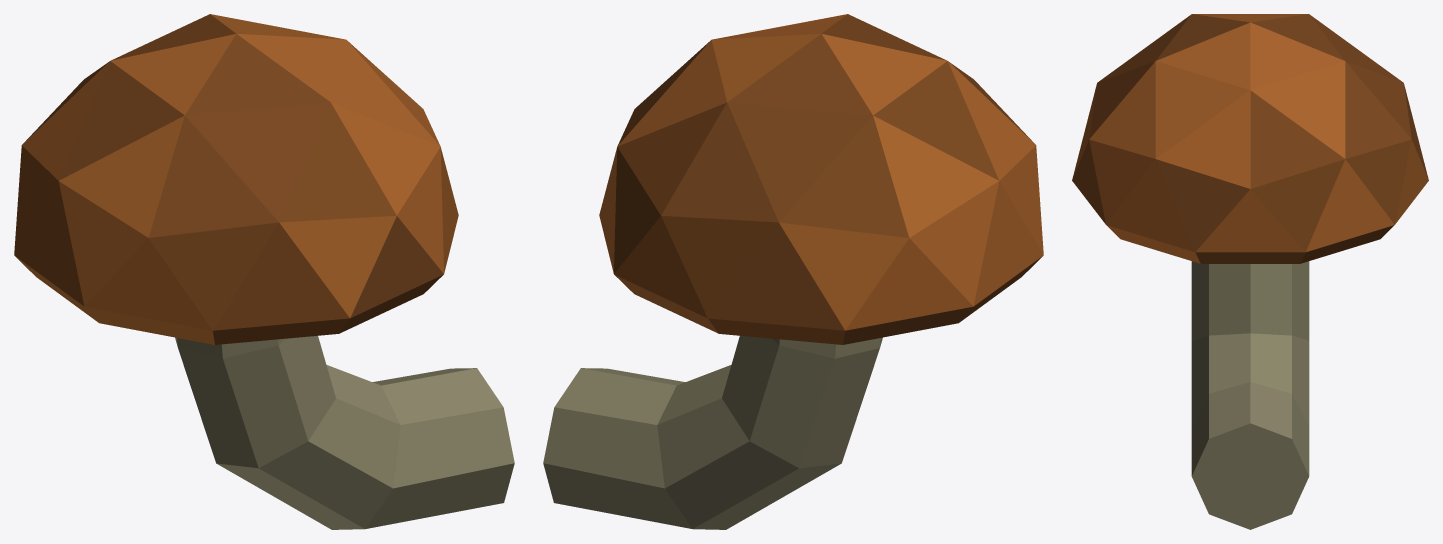
File: Mushroom_5_Orange.fbx
3 renders of one model, left to right at view 1: azimuth 30°, elevation 25°; view 2: azimuth 150°, elevation 25°; view 3: azimuth 270°, elevation 25°, orthographic. The views are drawn at different scales.
Parts seen in each view (by area): view 1: Mushroom_5_Orange; view 2: Mushroom_5_Orange; view 3: Mushroom_5_Orange.
Part boxes in pixels (x1,y1,x2,y2): Mushroom_5_Orange: (14,14,514,529); Mushroom_5_Orange: (543,14,1043,529); Mushroom_5_Orange: (1072,14,1428,529).
Bounding box in the file's own units: 33.07 × 39 × 30.39.
